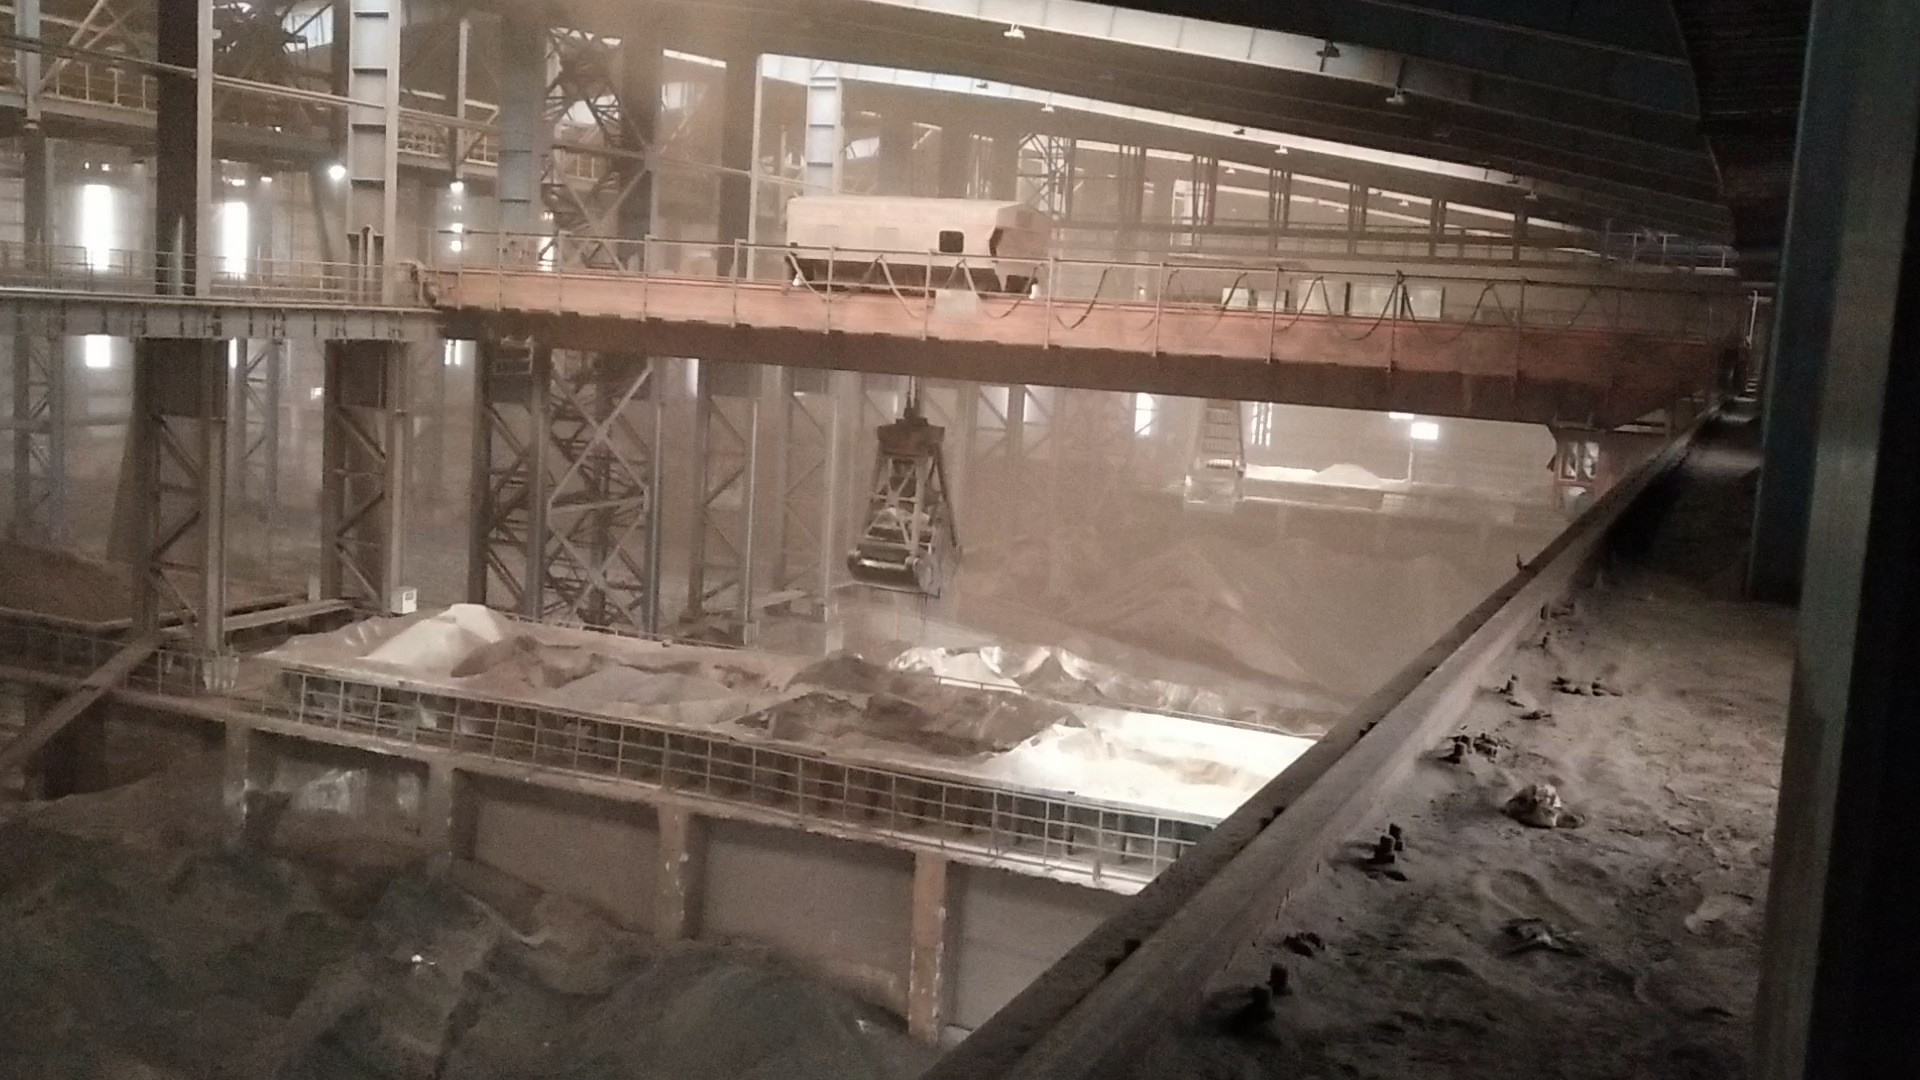grab: (837, 404, 971, 604), (1175, 382, 1251, 516)
